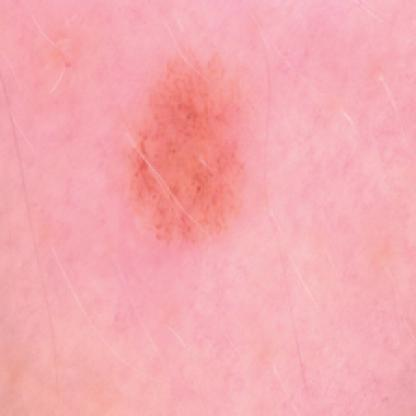benign: (137, 37, 238, 240)
